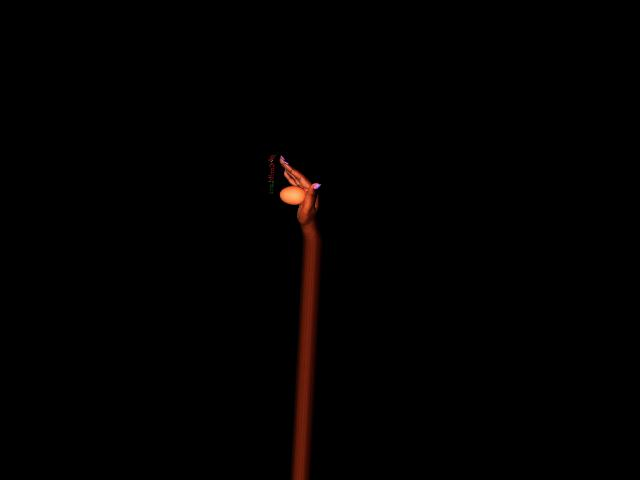egg: (279, 185, 305, 205)
